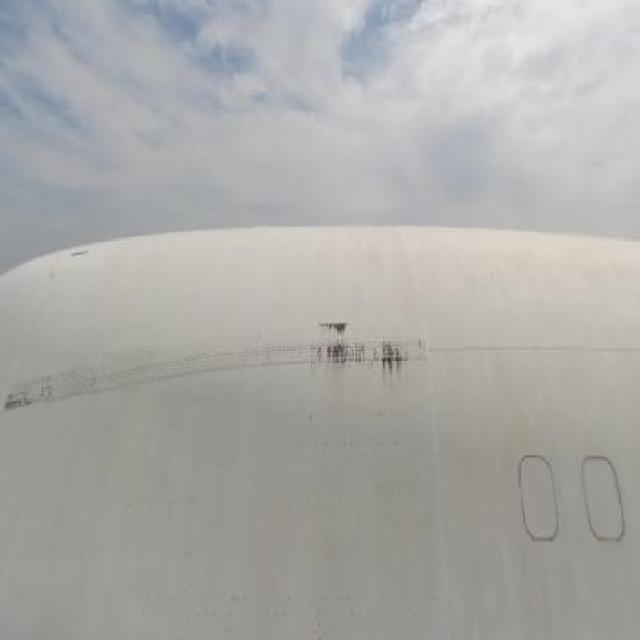Rust: (303, 304, 435, 394)
Scartch: (3, 372, 102, 428)
